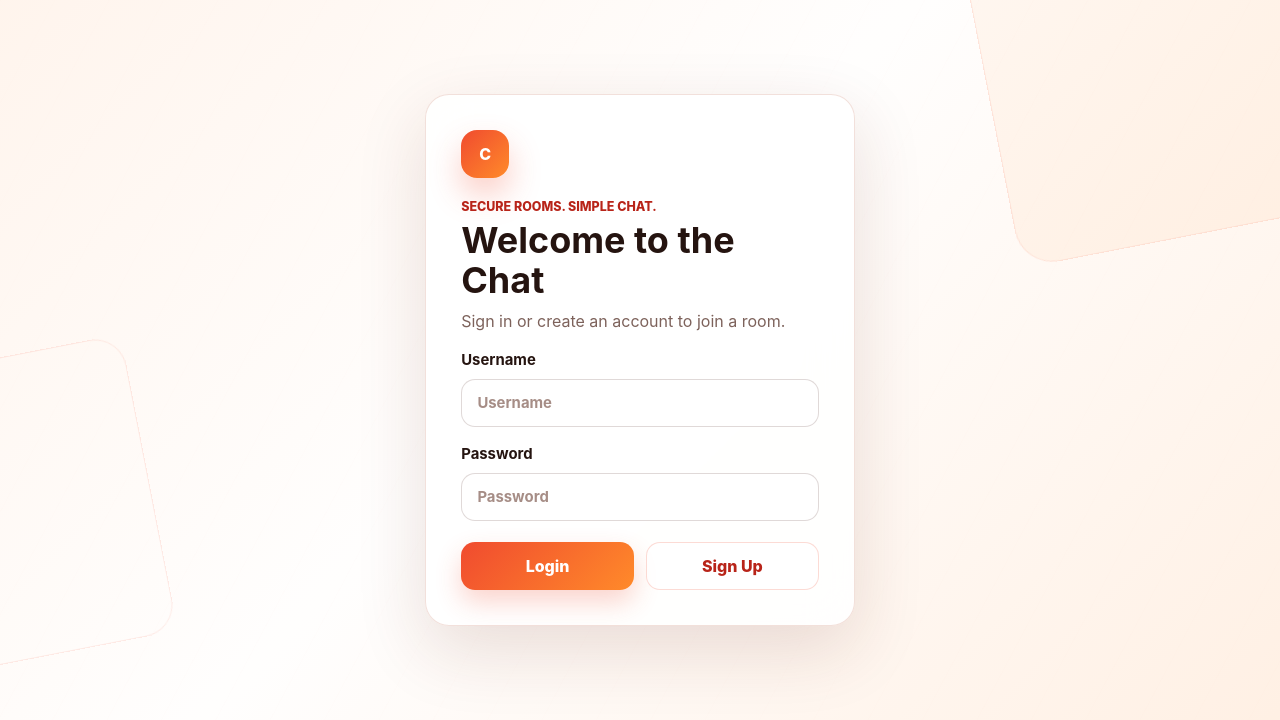
a spam-disconnect keeps the block reason visible on the login screen
Step 1. Type "alice" into the field with placeholder "Username" → [640, 403], box [461, 379, 819, 427]
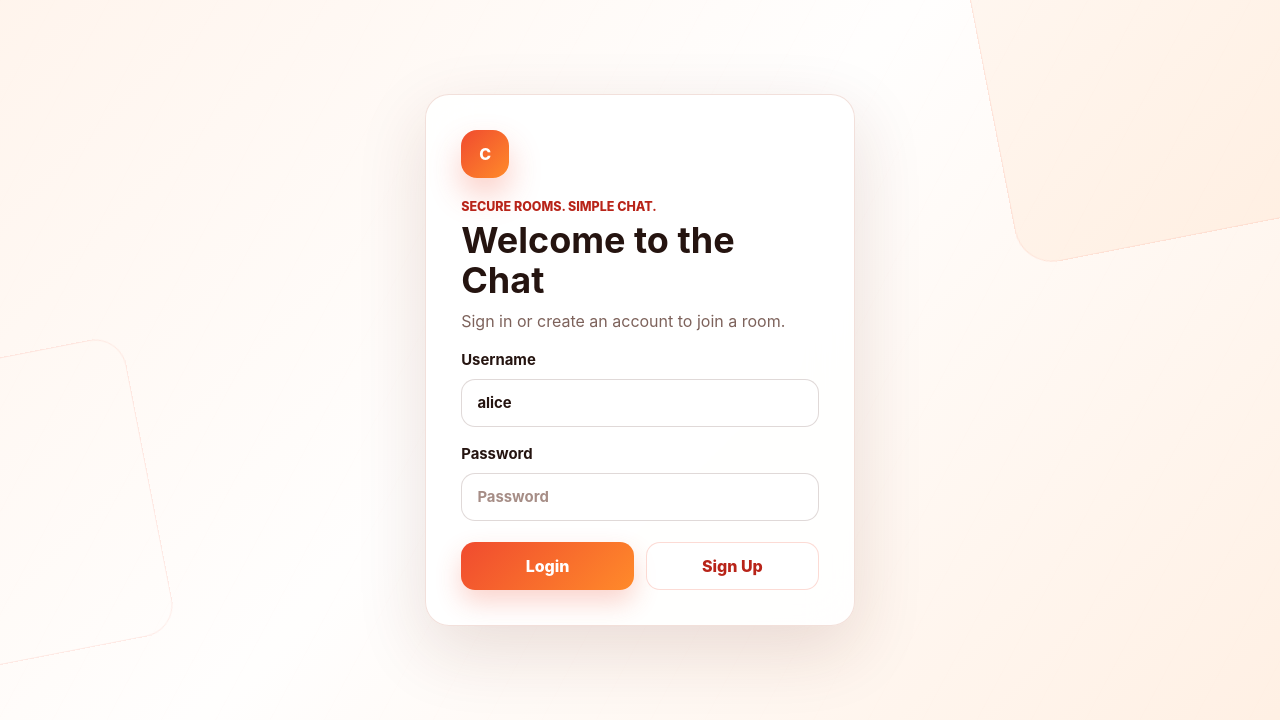
Step 2. Type "password" into the password field with placeholder "Password" → [640, 497], box [461, 473, 819, 521]
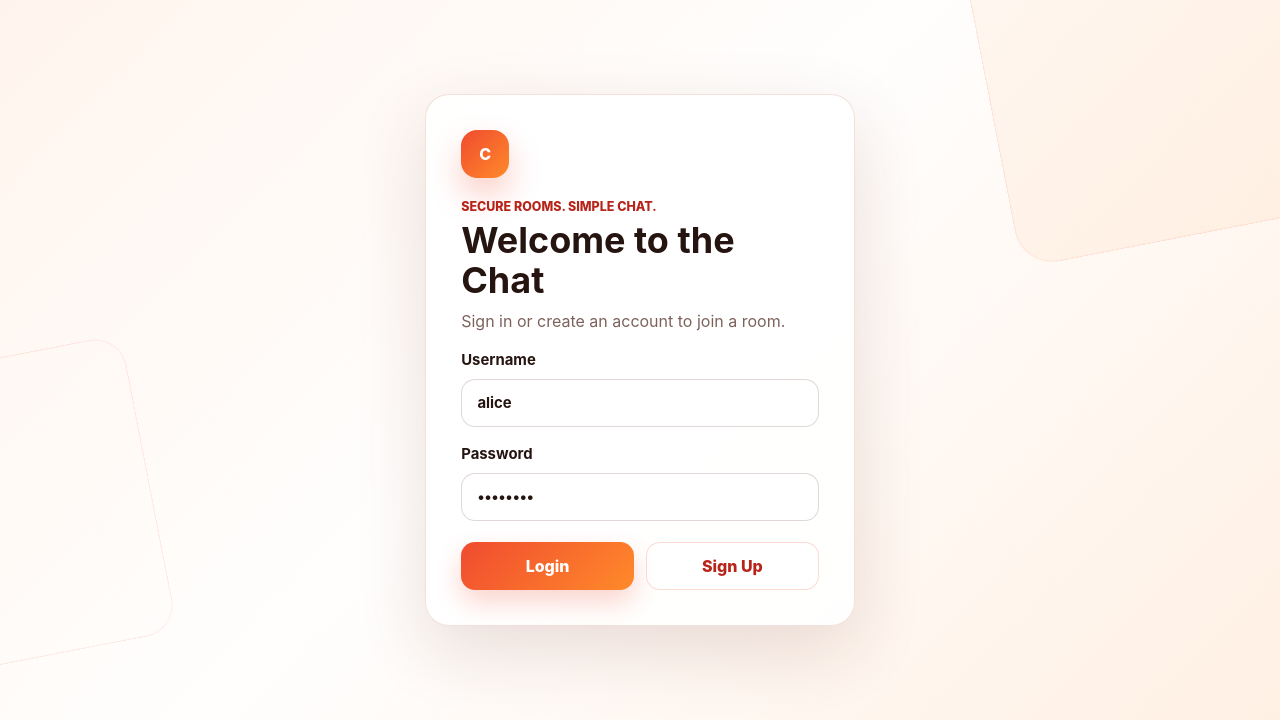
Step 3. Click the button "Login" → [548, 566], box [461, 542, 634, 590]
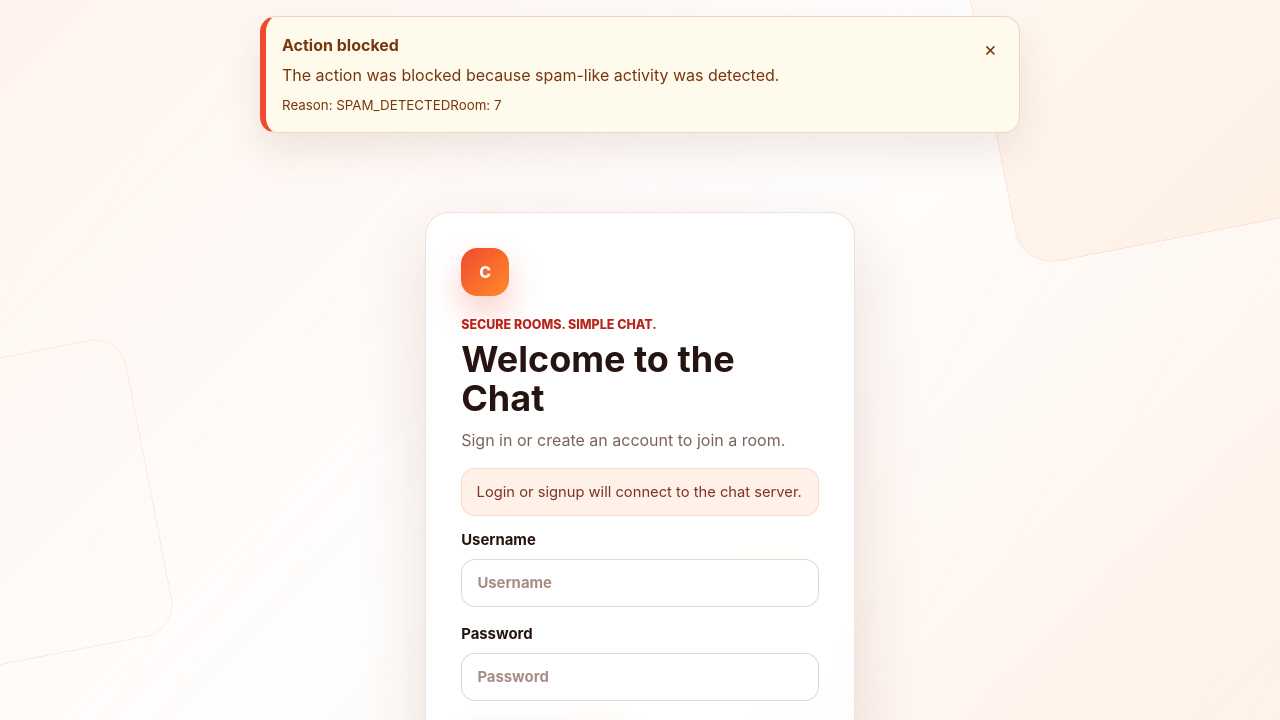
Expected: the heading "Welcome to the Chat" is shown, [461, 337, 735, 420]
Expected: the text "Action blocked" is shown, [282, 35, 399, 55]
Expected: the text "Reason: SPAM_DETECTED" is shown, [282, 97, 450, 113]
